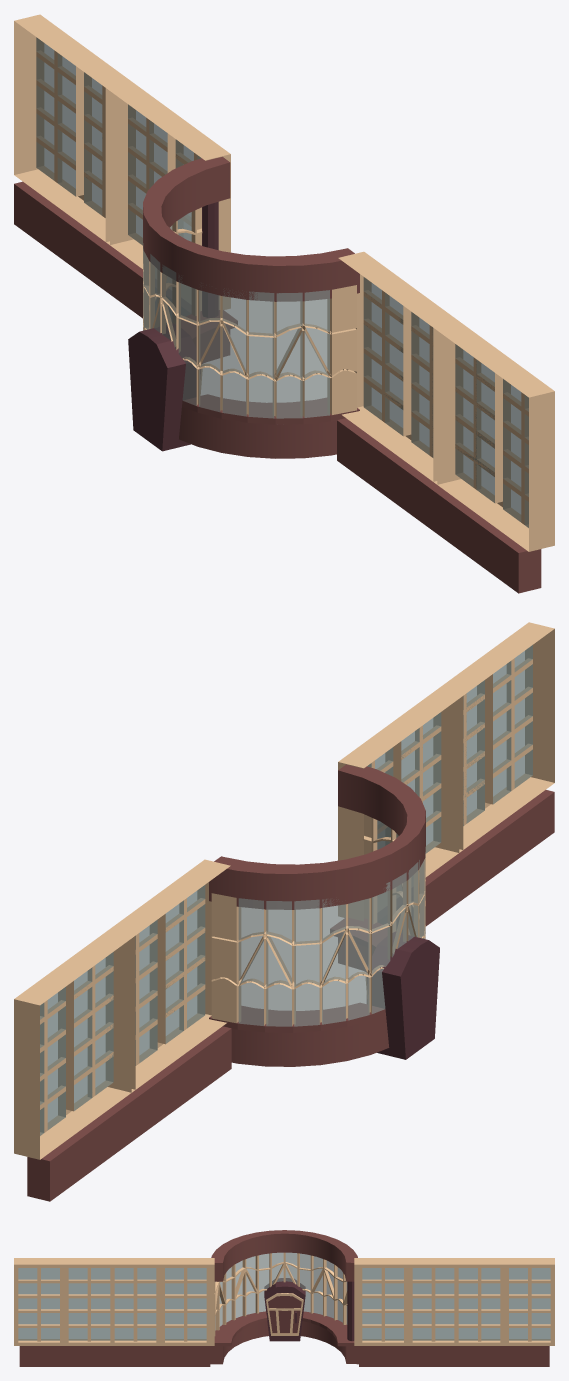
Rendered from parede frente.fbx.
3 renders of one model, top to bottom at view 1: azimuth 30°, elevation 25°; view 2: azimuth 150°, elevation 25°; view 3: azimuth 270°, elevation 25°, orthographic. The views are drawn at different scales.
Parts seen in each view (by area): view 1: Plane.085; view 2: Plane.085; view 3: Plane.085, Cube.022.
Part boxes in pixels (x1,y1,x2,y2): Plane.085: (14, 14, 554, 593); Plane.085: (14, 622, 554, 1201); Plane.085: (14, 1230, 554, 1366); Cube.022: (266, 1293, 303, 1335).
Size of the model in its own units: 11.15 by 14.4 by 66.56.
